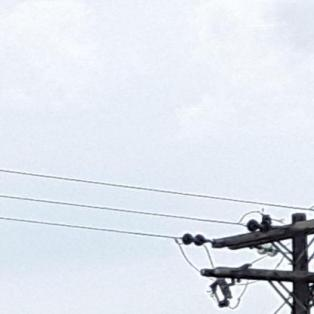Poste: (274, 204, 314, 314)
